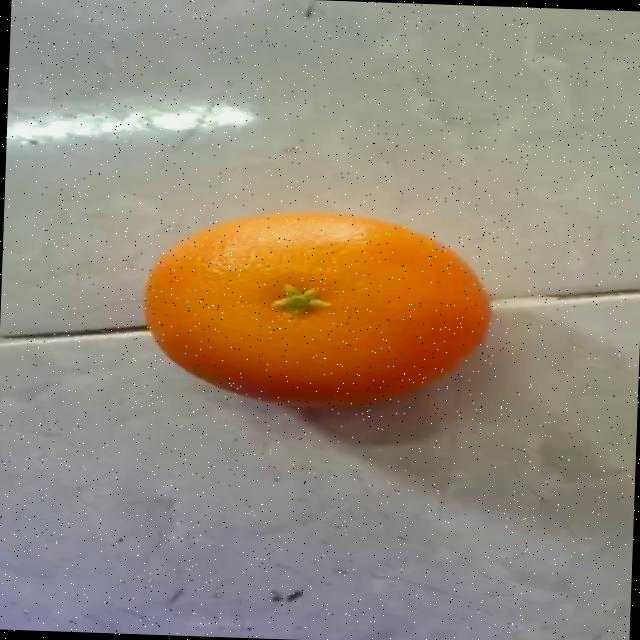orange: (116, 197, 516, 428)
